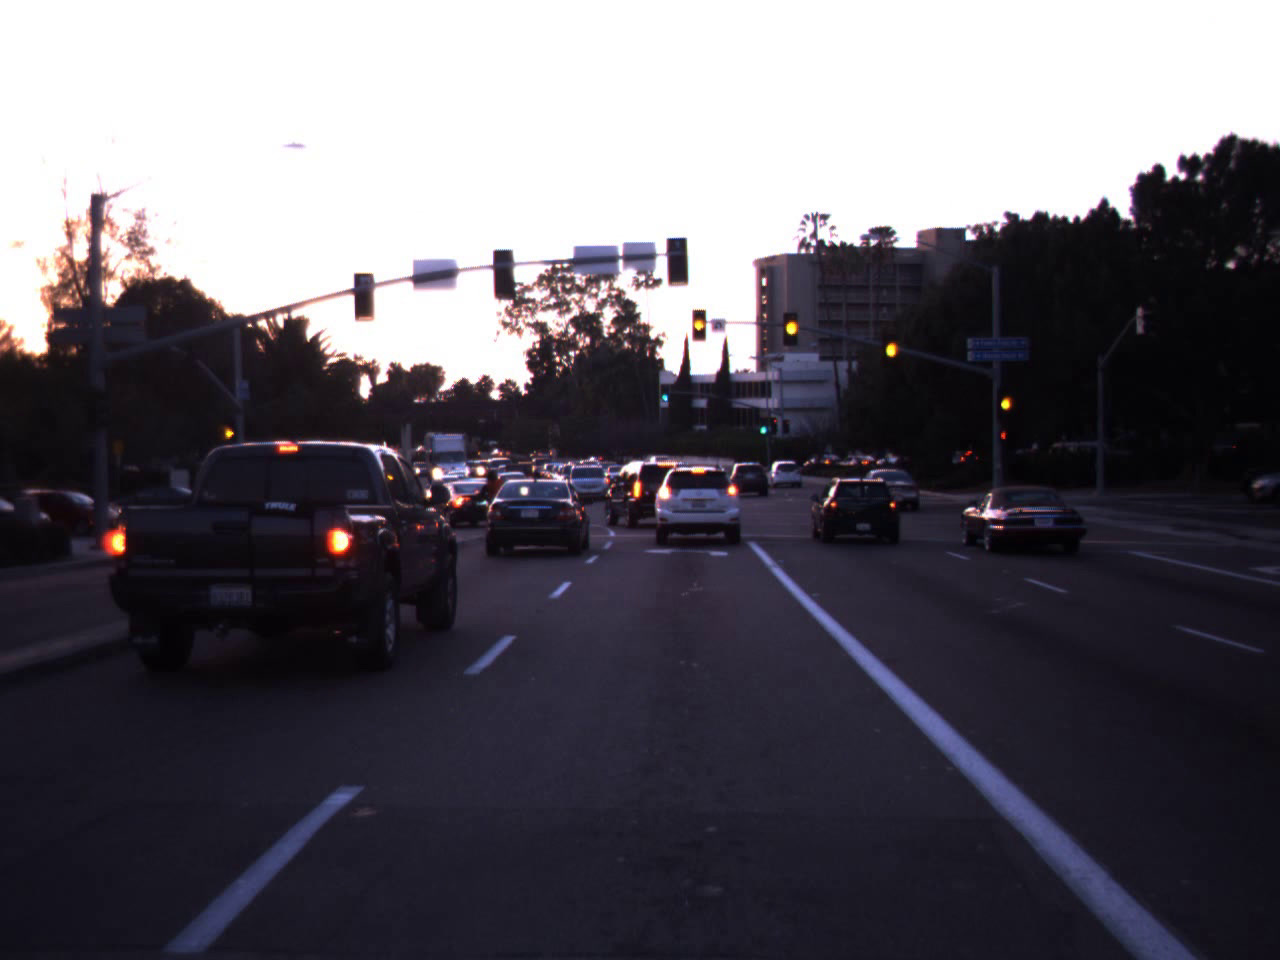go: (758, 410, 770, 435), (658, 382, 670, 402)
warning: (882, 315, 903, 378), (682, 304, 718, 340), (783, 298, 804, 352), (995, 384, 1016, 419), (220, 421, 238, 443)
